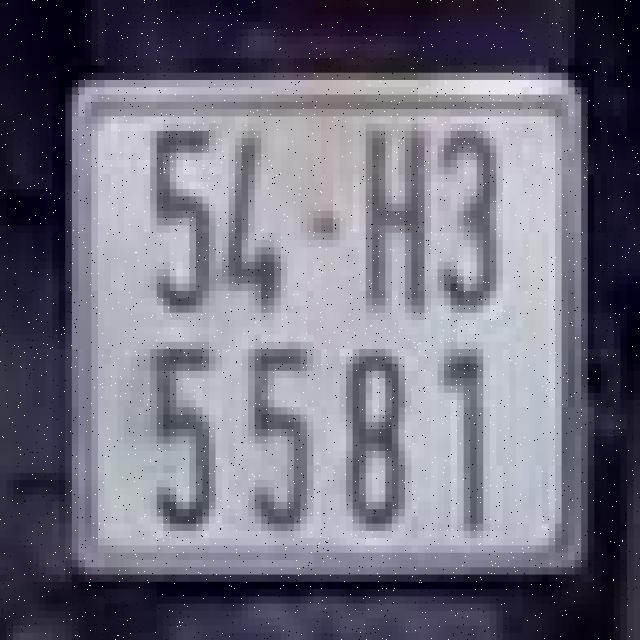1: (428, 338, 500, 542)
3: (431, 120, 503, 324)
4: (222, 120, 294, 324)
5: (124, 331, 229, 542), (134, 112, 219, 324), (242, 338, 320, 535)
8: (339, 342, 412, 531)
H: (350, 112, 434, 324)
